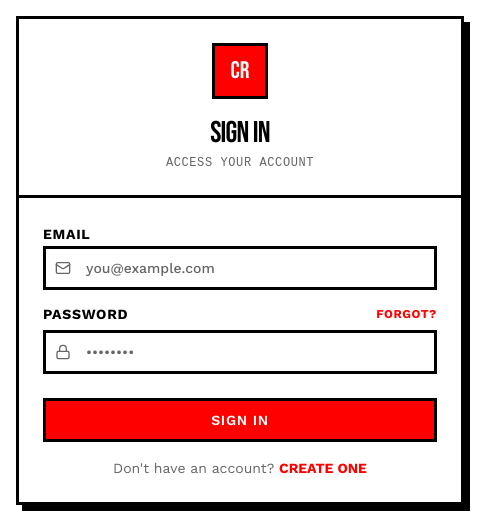
Login page › disables form while loading
Type "test@test.com" into the field labelled "Email" at (240, 268), box [43,246,437,290]
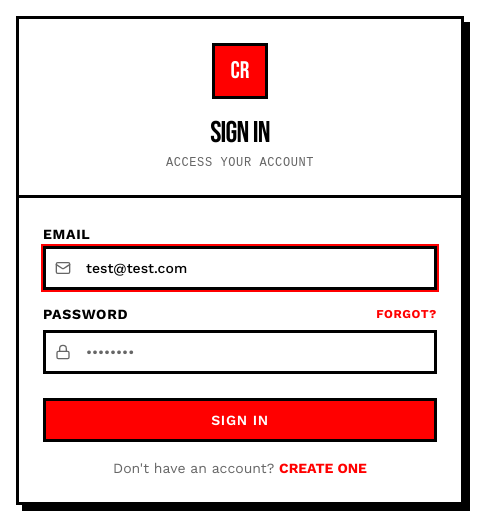
Type "pass123" into the password field labelled "Password" at (240, 352), box [43,330,437,374]
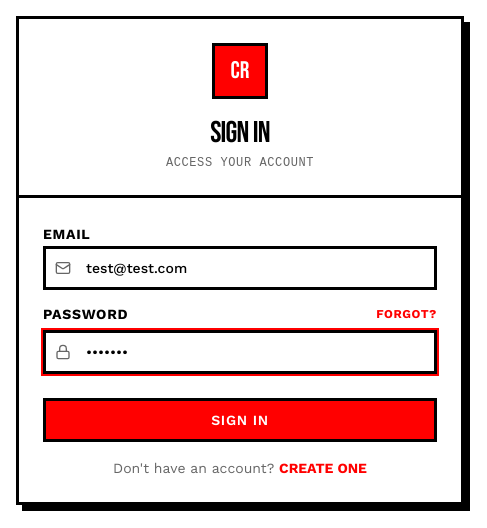
Click the button "Sign In" at (240, 420), box [43,398,437,442]
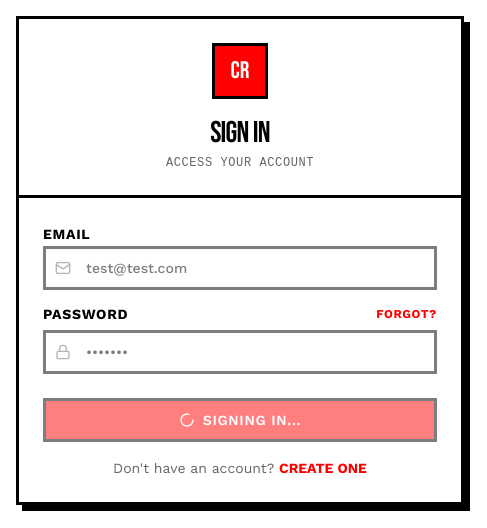
Expected: the field labelled "Email" is disabled, [43,246,437,290]
Expected: the password field labelled "Password" is disabled, [43,330,437,374]
